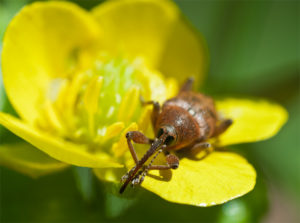dolgonosik: (117, 76, 234, 197)
